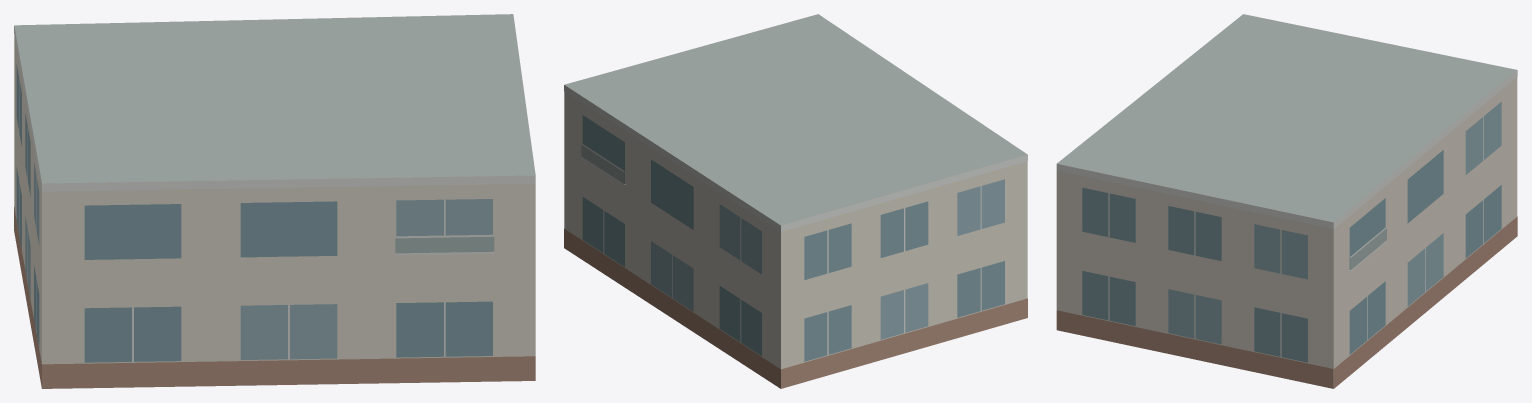
The model's file is survey-upis-32748910.glb.
3 renders of one model, left to right at view 1: azimuth 30°, elevation 25°; view 2: azimuth 150°, elevation 25°; view 3: azimuth 270°, elevation 25°, orthographic. The views are drawn at different scales.
Visible parts, largest first — view 1: survey-upis-32748910.tmp; view 2: survey-upis-32748910.tmp; view 3: survey-upis-32748910.tmp.
Part boxes in pixels (left/top/right/bottom): survey-upis-32748910.tmp: left=14, top=14, right=535, bottom=388; survey-upis-32748910.tmp: left=564, top=14, right=1027, bottom=388; survey-upis-32748910.tmp: left=1056, top=14, right=1517, bottom=388.
Size of the model in its own units: 16.4 by 6.1 by 15.31.
